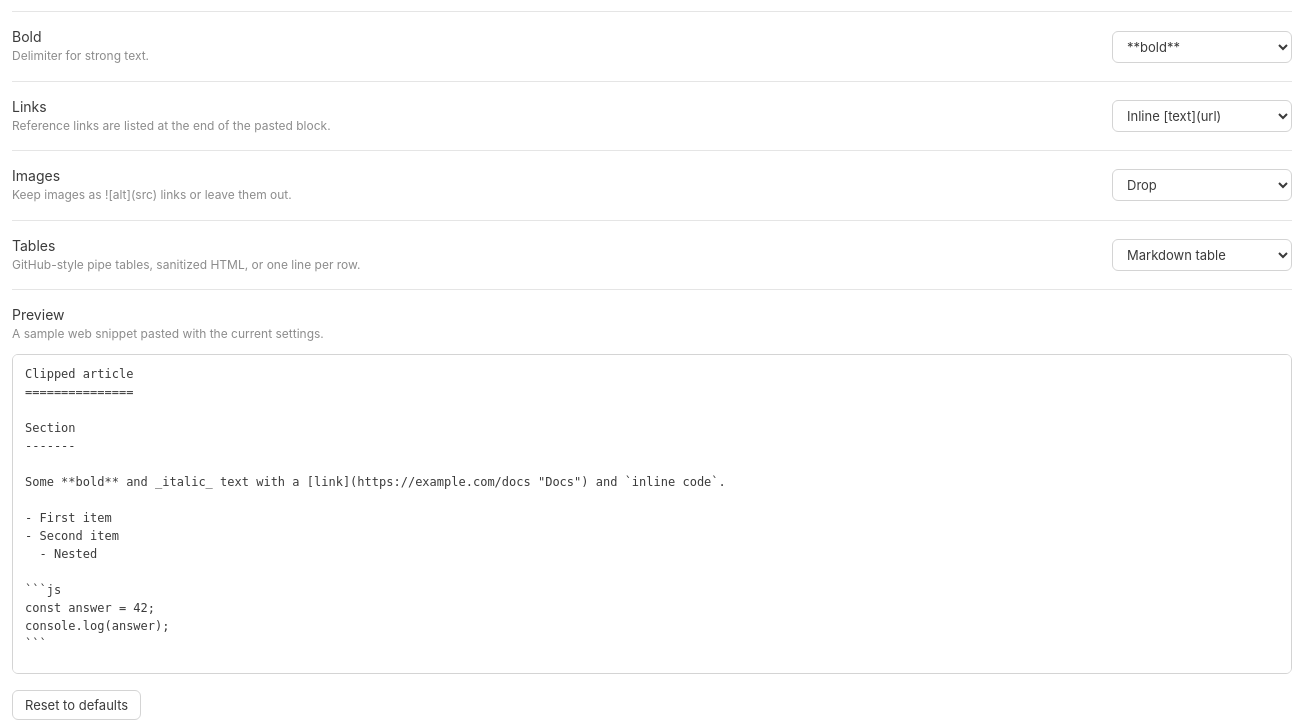
Scenario: ClippingSection › resets to defaults
(page scrolled)
What coordinates should you click on to do the following:
click the button with test id "clipping-reset"
I would click on:
 (77, 705)
Its box is [12,690,141,719].
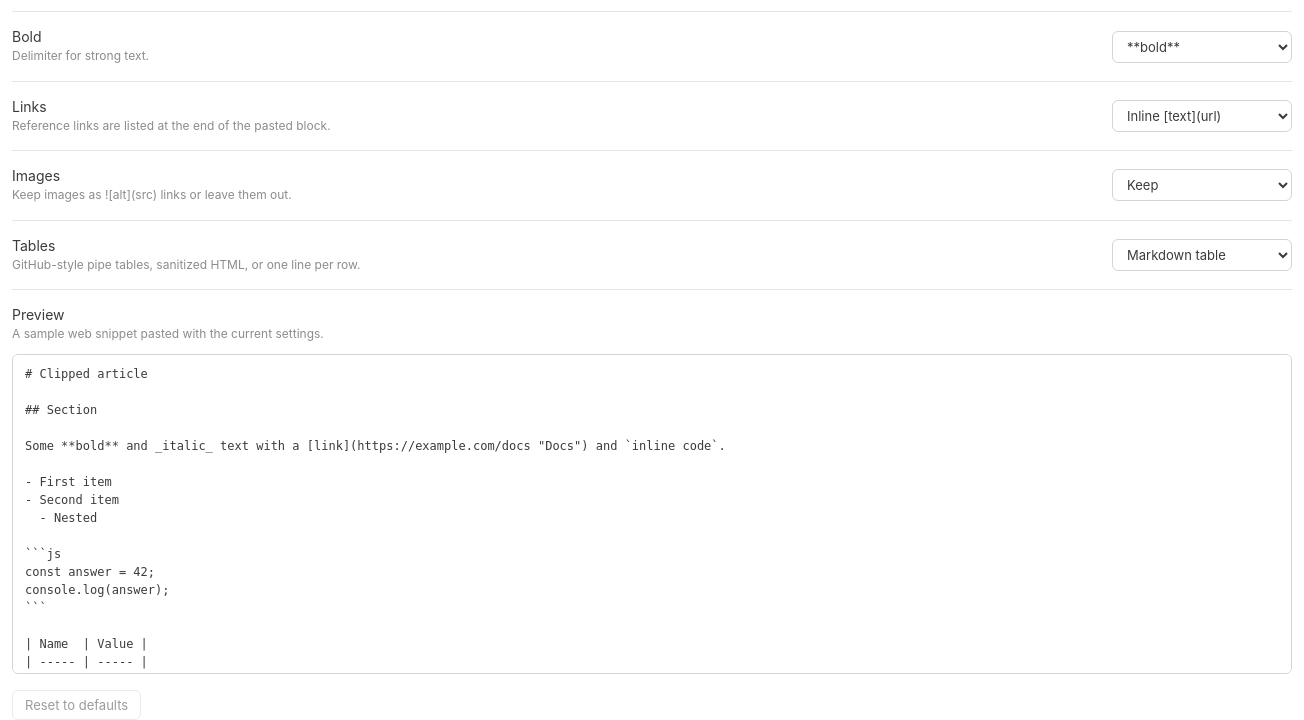
Result: the button with test id "clipping-reset" is disabled at [12,690,141,719]
